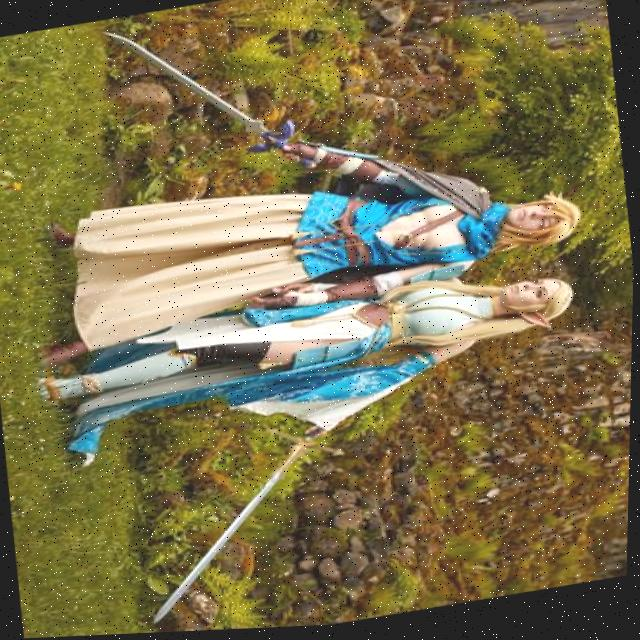knife: (134, 420, 360, 624), (95, 2, 300, 180)
